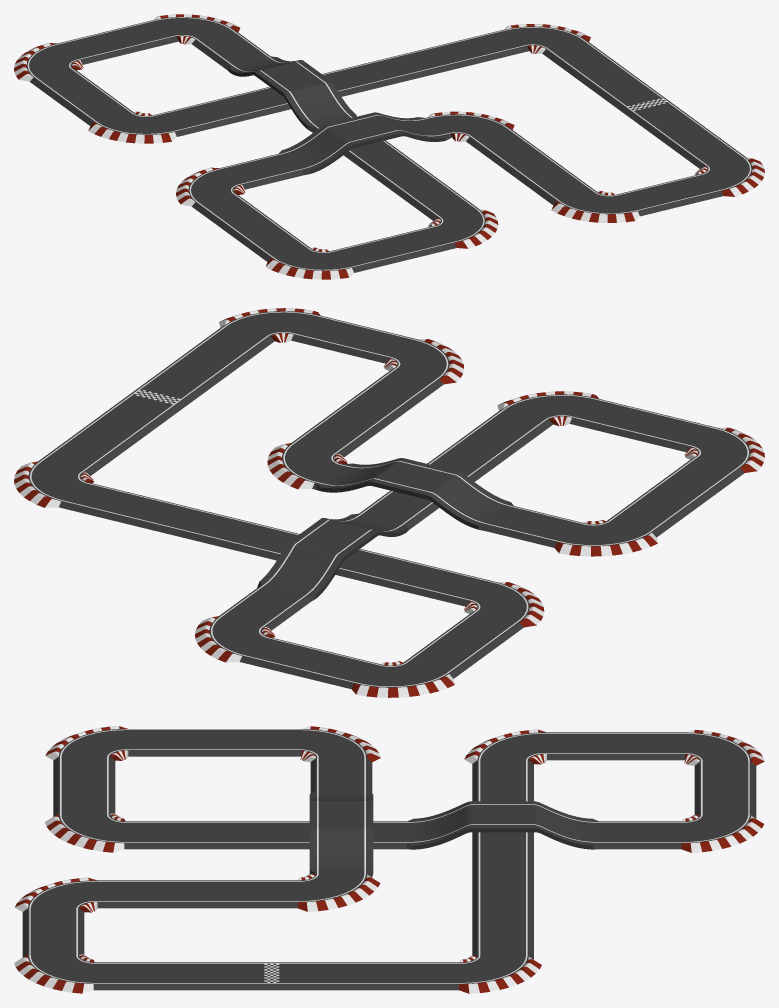
File: Track-02.fbx
3 renders of one model, top to bottom at view 1: azimuth 30°, elevation 25°; view 2: azimuth 150°, elevation 25°; view 3: azimuth 270°, elevation 25°, orthographic. The views are drawn at different scales.
Visible parts, largest first — view 1: Track-02; view 2: Track-02; view 3: Track-02.
Boxes of the visible parts, x1=… form: Track-02: x1=14, y1=14, x2=764, y2=279; Track-02: x1=14, y1=308, x2=764, y2=697; Track-02: x1=14, y1=726, x2=764, y2=993.
Bounding box in the file's own units: 186 × 6.98 × 221.
